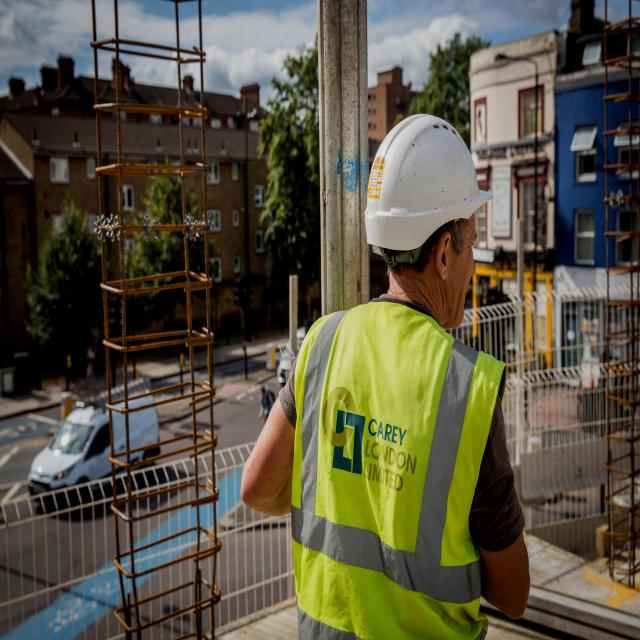head_helmet: (364, 113, 495, 252)
person: (284, 122, 532, 640)
vest: (290, 299, 510, 640)
